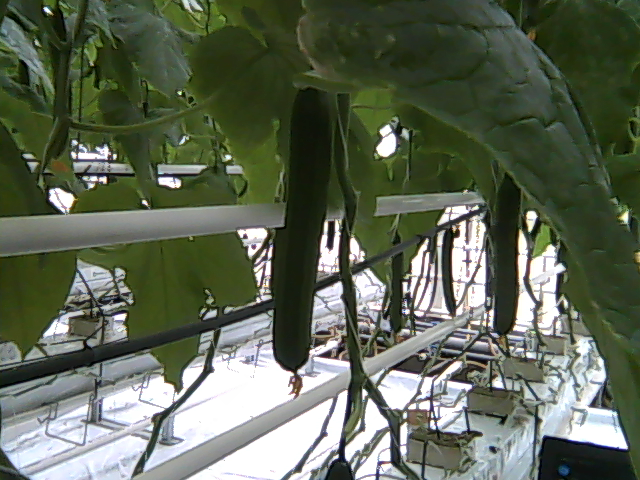concombre: (271, 82, 337, 403), (489, 171, 522, 353)
